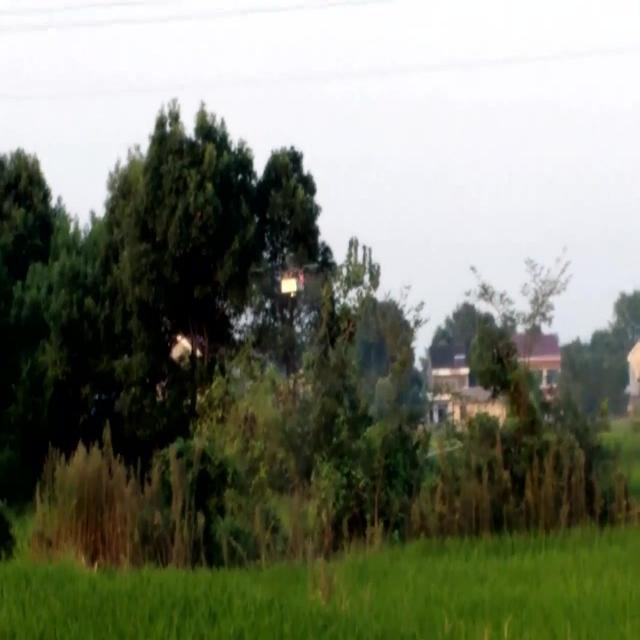UAV: (250, 262, 322, 298)
